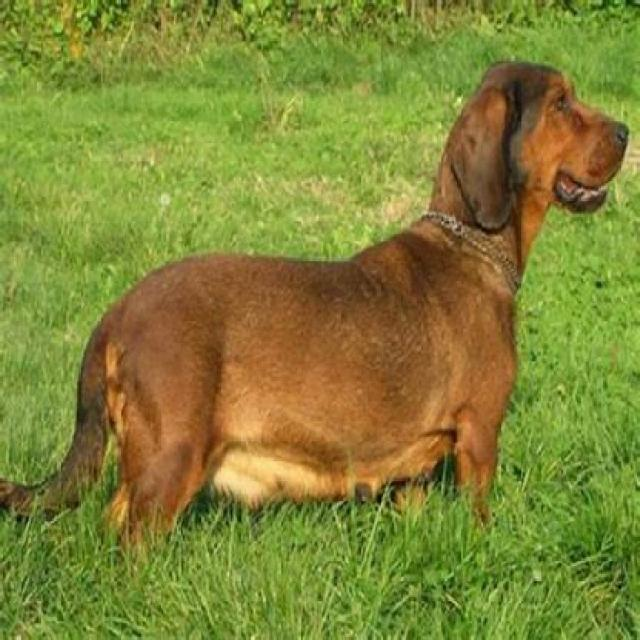Dog: (0, 55, 632, 539)
